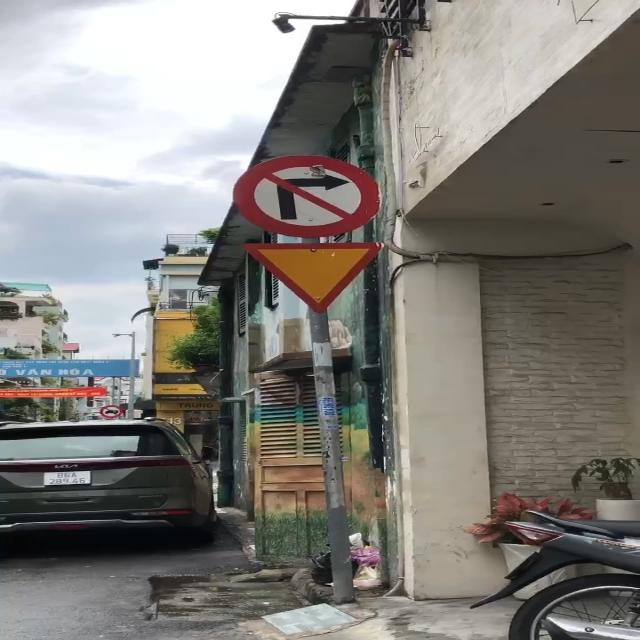Bien bao cam re phai: (234, 145, 387, 237)
Bien bao giao nhau voi duong uu tien: (236, 239, 401, 314)
